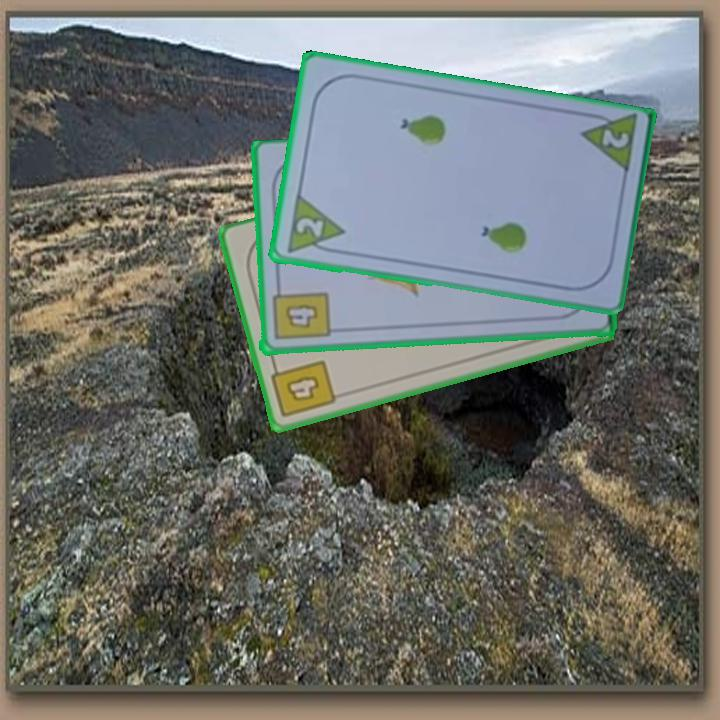2p: (282, 191, 347, 258), (598, 125, 632, 152)
4b: (268, 356, 339, 421), (268, 281, 332, 343)
